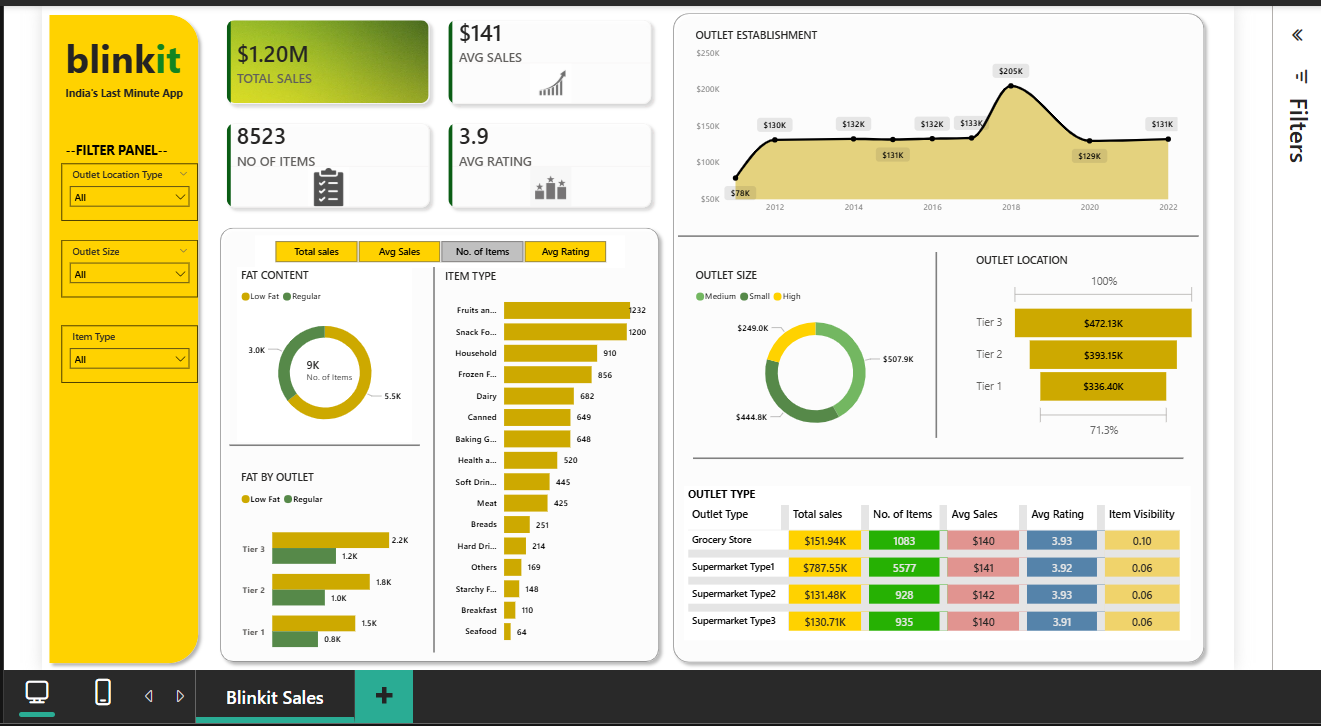

This screenshot's page, from the dashboard's own definition file:
{"tool":"powerbi","page":{"name":"Blinkit Sales","canvas":[1500,835],"ordinal":0},"visuals":[{"type":"shape","box":[0,1.9,205.6,833.8],"z":0},{"type":"textbox","box":[25.1,27,171.9,86.9],"z":1000},{"type":"textbox","box":[25.1,94.7,181.6,40.6],"z":2000},{"type":"cardVisual","fields":{"Data":["BlinkIT Grocery Data.Total sales","BlinkIT Grocery Data.Average Sales","BlinkIT Grocery Data.No. of Items","BlinkIT Grocery Data.Average Rating"]},"box":[214.4,0,569.9,270.5],"z":3000},{"type":"shape","box":[214.4,270.5,569.9,564.1],"z":4000},{"type":"donutChart","title":"FAT CONTENT","fields":{"Y":["BlinkIT Grocery Data.No. of Items"],"Category":["BlinkIT Grocery Data.Item Fat Content"]},"box":[245.3,328.4,220.2,220.2],"z":5000},{"type":"slicer","fields":{"Values":["Metrics.Metrics"]},"box":[268.5,287.8,465.6,40.6],"z":6000},{"type":"cardVisual","fields":{"Data":["BlinkIT Grocery Data.No. of Items"]},"box":[303.3,417.3,117.8,81.1],"z":7000},{"type":"clusteredBarChart","title":"FAT BY OUTLET","fields":{"Y":["BlinkIT Grocery Data.No. of Items"],"Category":["BlinkIT Grocery Data.Outlet Location Type"],"Series":["BlinkIT Grocery Data.Item Fat Content"]},"box":[245.3,583.4,220.2,251.1],"z":8000},{"type":"shape","box":[235.7,525.4,239.5,52.2],"z":9000},{"type":"shape","box":[465.6,328.4,54.1,484.9],"z":10000},{"type":"barChart","title":"ITEM TYPE","fields":{"Y":["BlinkIT Grocery Data.No. of Items"],"Category":["BlinkIT Grocery Data.Item Type"]},"box":[502.3,330.3,262.7,482.9],"z":11000},{"type":"shape","box":[784.3,0,685.8,834.5],"z":12000},{"type":"lineChart","title":"OUTLET ESTABLISHMENT","fields":{"Y":["BlinkIT Grocery Data.Total sales"],"Category":["BlinkIT Grocery Data.Outlet Establishment Year"]},"box":[817.1,27,616.2,243.4],"z":13000},{"type":"shape","box":[799.8,256.9,654.9,65.7],"z":14000},{"type":"donutChart","title":"OUTLET SIZE","fields":{"Y":["BlinkIT Grocery Data.Total sales"],"Category":["BlinkIT Grocery Data.Outlet Size"]},"box":[817.1,328.4,311,220.2],"z":15000},{"type":"shape","box":[818.7,554.6,616.8,28.3],"z":16000},{"type":"funnel","title":"OUTLET LOCATION","fields":{"Category":["BlinkIT Grocery Data.Outlet Location Type"],"Y":["BlinkIT Grocery Data.Total sales"]},"box":[1168.7,309.1,285.9,239.5],"z":17000},{"type":"shape","box":[1068.3,309.1,114,233.7],"z":18000},{"type":"pivotTable","title":"OUTLET TYPE","fields":{"Rows":["BlinkIT Grocery Data.Outlet Type"],"Values":["BlinkIT Grocery Data.Total sales","BlinkIT Grocery Data.No. of Items","BlinkIT Grocery Data.Average Sales","BlinkIT Grocery Data.Average Rating","Avg(BlinkIT Grocery Data.Item Visibility)"]},"box":[807.4,603.6,637.6,194.3],"z":19000},{"type":"slicer","fields":{"Values":["BlinkIT Grocery Data.Outlet Location Type"]},"box":[24.5,198.1,171.7,71.7],"z":20000},{"type":"slicer","fields":{"Values":["BlinkIT Grocery Data.Item Type"]},"box":[24.5,401.8,171.7,71.7],"z":21000},{"type":"slicer","fields":{"Values":["BlinkIT Grocery Data.Outlet Size"]},"box":[24.5,294.3,171.7,71.7],"z":22000},{"type":"textbox","box":[24.5,164.1,147.1,34],"z":23000}]}

Visuals, with their boxes on the page's 1500x835 design canvas (x1, y1, x2, y2). These are canvas units, not pixel positions in the 1321x726 screenshot, which may show the page scaled, cropped or inside an application window:
shape: {"left": 0, "top": 2, "right": 206, "bottom": 836}
textbox: {"left": 25, "top": 27, "right": 197, "bottom": 114}
textbox: {"left": 25, "top": 95, "right": 207, "bottom": 135}
cardVisual - BlinkIT Grocery Data.Total sales x BlinkIT Grocery Data.Average Sales: {"left": 214, "top": 0, "right": 784, "bottom": 270}
shape: {"left": 214, "top": 270, "right": 784, "bottom": 835}
"FAT CONTENT" donutChart: {"left": 245, "top": 328, "right": 466, "bottom": 549}
slicer - Metrics.Metrics: {"left": 268, "top": 288, "right": 734, "bottom": 328}
cardVisual - BlinkIT Grocery Data.No. of Items: {"left": 303, "top": 417, "right": 421, "bottom": 498}
"FAT BY OUTLET" clusteredBarChart: {"left": 245, "top": 583, "right": 466, "bottom": 834}
shape: {"left": 236, "top": 525, "right": 475, "bottom": 578}
shape: {"left": 466, "top": 328, "right": 520, "bottom": 813}
"ITEM TYPE" barChart: {"left": 502, "top": 330, "right": 765, "bottom": 813}
shape: {"left": 784, "top": 0, "right": 1470, "bottom": 834}
"OUTLET ESTABLISHMENT" lineChart: {"left": 817, "top": 27, "right": 1433, "bottom": 270}
shape: {"left": 800, "top": 257, "right": 1455, "bottom": 323}
"OUTLET SIZE" donutChart: {"left": 817, "top": 328, "right": 1128, "bottom": 549}
shape: {"left": 819, "top": 555, "right": 1436, "bottom": 583}
"OUTLET LOCATION" funnel: {"left": 1169, "top": 309, "right": 1455, "bottom": 549}
shape: {"left": 1068, "top": 309, "right": 1182, "bottom": 543}
"OUTLET TYPE" pivotTable: {"left": 807, "top": 604, "right": 1445, "bottom": 798}
slicer - BlinkIT Grocery Data.Outlet Location Type: {"left": 24, "top": 198, "right": 196, "bottom": 270}
slicer - BlinkIT Grocery Data.Item Type: {"left": 24, "top": 402, "right": 196, "bottom": 474}
slicer - BlinkIT Grocery Data.Outlet Size: {"left": 24, "top": 294, "right": 196, "bottom": 366}
textbox: {"left": 24, "top": 164, "right": 172, "bottom": 198}
